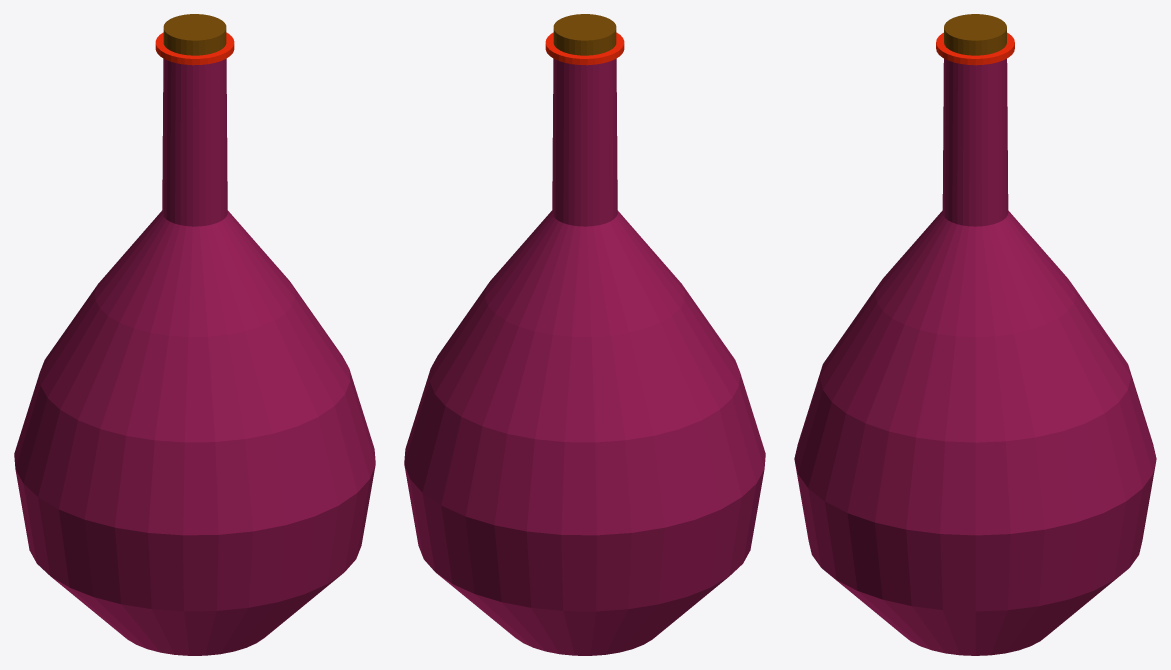
File: jar1.fbx
The picture shows the model from 3 angles, left to right: view 1: azimuth 30°, elevation 25°; view 2: azimuth 150°, elevation 25°; view 3: azimuth 270°, elevation 25°; orthographic projection.
Parts seen in each view (by area): view 1: jar1; view 2: jar1; view 3: jar1.
Part boxes in pixels (x1,y1,x2,y2): jar1: (14, 14, 375, 655); jar1: (404, 14, 765, 655); jar1: (794, 14, 1156, 655).
Bounding box in the file's own units: 465 × 844 × 465.
